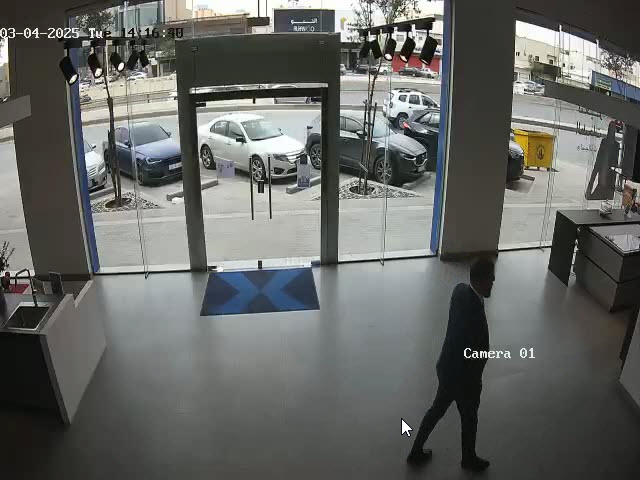employee: (406, 257, 496, 472)
